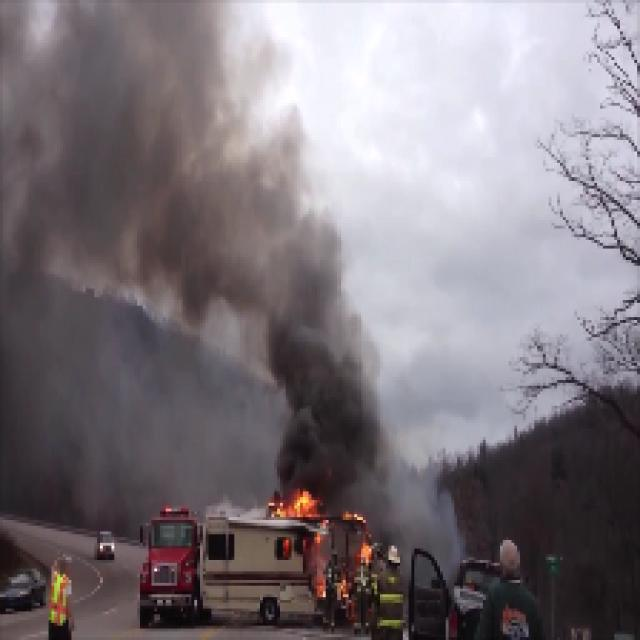smoke: (3, 3, 268, 328), (273, 226, 378, 479)
